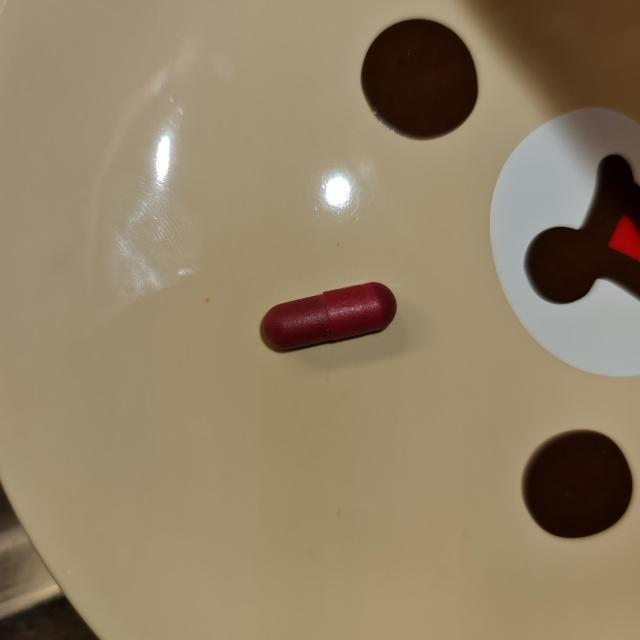pill: (260, 280, 396, 352)
